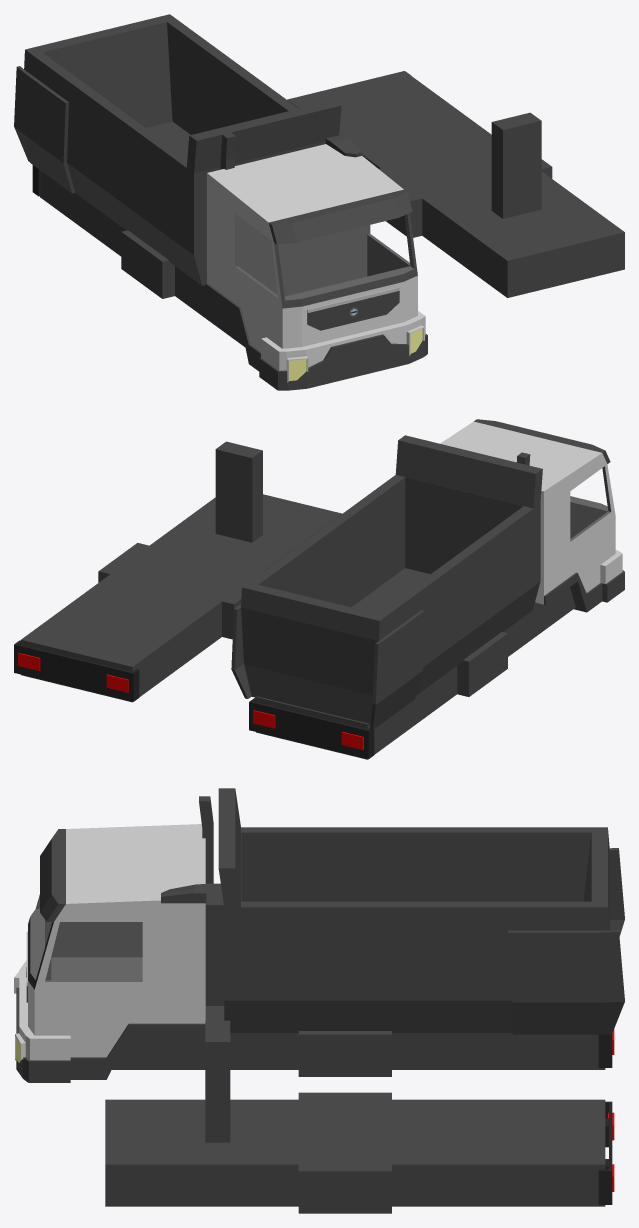
Rendered from FMX.fbx.
3 renders of one model, top to bottom at view 1: azimuth 30°, elevation 25°; view 2: azimuth 150°, elevation 25°; view 3: azimuth 270°, elevation 25°, orthographic. The views are drawn at different scales.
Parts seen in each view (by area): view 1: Cube.001, Cube, Cube.003; view 2: Cube.001, Cube.003, Cube; view 3: Cube.001, Cube.003, Cube.
Part boxes in pixels (x1,y1,x2,y2): Cube.001: (14, 14, 341, 346); Cube: (205, 132, 427, 390); Cube.003: (287, 71, 624, 297); Cube.001: (231, 435, 575, 759); Cube.003: (14, 441, 341, 702); Cube: (440, 419, 624, 612); Cube.001: (111, 788, 624, 1076); Cube.003: (105, 1020, 614, 1213); Cube: (14, 796, 213, 1082).
Bounding box in the file's own units: 798 × 370 × 944.
Materials: 5 (1 with a texture image).
